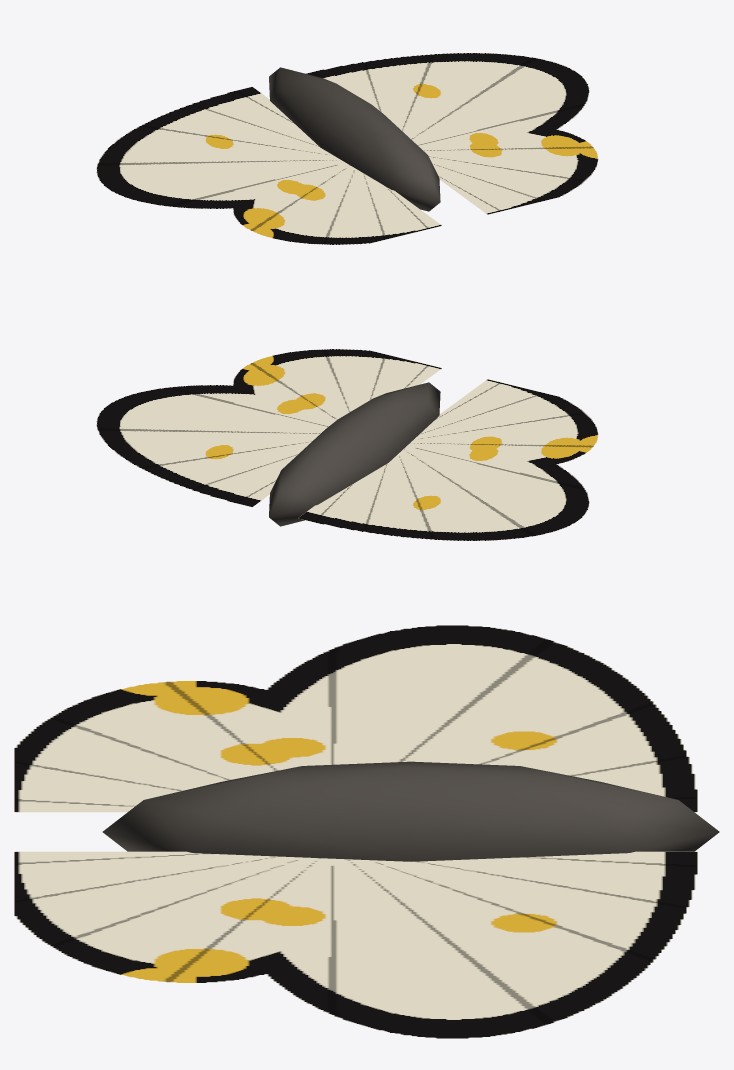
Rendered from Butterfly_White.glb.
3 views of the same model, one above another, from view 1: azimuth 30°, elevation 25°; view 2: azimuth 150°, elevation 25°; view 3: azimuth 270°, elevation 25° (orthographic). The views are drawn at different scales.
Parts seen in each view (by area): view 1: WingL, WingR, Butterfly_White; view 2: WingL, WingR, Butterfly_White; view 3: WingR, WingL, Butterfly_White.
Boxes of the visible parts, <box> form: WingL: <box>96,87,441,244</box>; WingR: <box>306,53,598,214</box>; Butterfly_White: <box>269,67,440,211</box>; WingL: <box>298,379,598,540</box>; WingR: <box>96,349,441,506</box>; Butterfly_White: <box>269,382,440,526</box>; WingR: <box>14,851,697,1038</box>; WingL: <box>14,625,697,812</box>; Butterfly_White: <box>102,761,719,861</box>.
Bounding box in the file's own units: 0.12 × 0.016 × 0.08.
2 materials, 1 textured.
